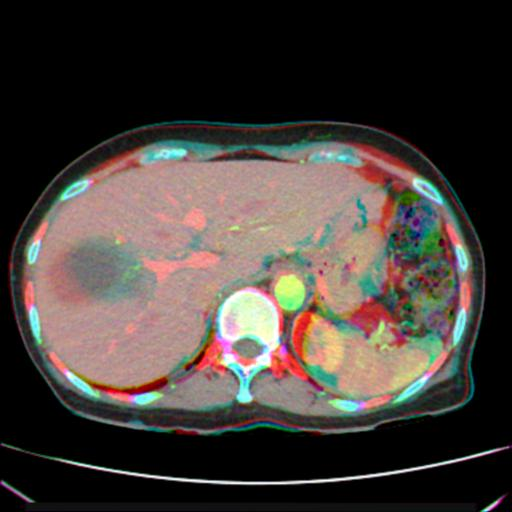Abscess: (68, 239, 123, 294)
